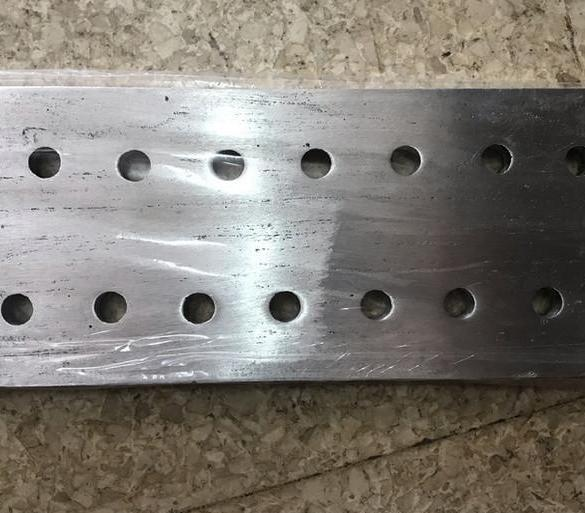hole: (261, 284, 308, 331), (21, 142, 70, 185), (528, 282, 570, 325), (296, 144, 340, 183), (178, 289, 220, 329), (208, 145, 247, 185), (386, 141, 426, 180), (114, 146, 153, 185), (358, 284, 396, 324), (0, 291, 38, 329), (92, 289, 130, 327), (478, 142, 516, 178), (442, 284, 476, 323), (563, 141, 585, 179)
